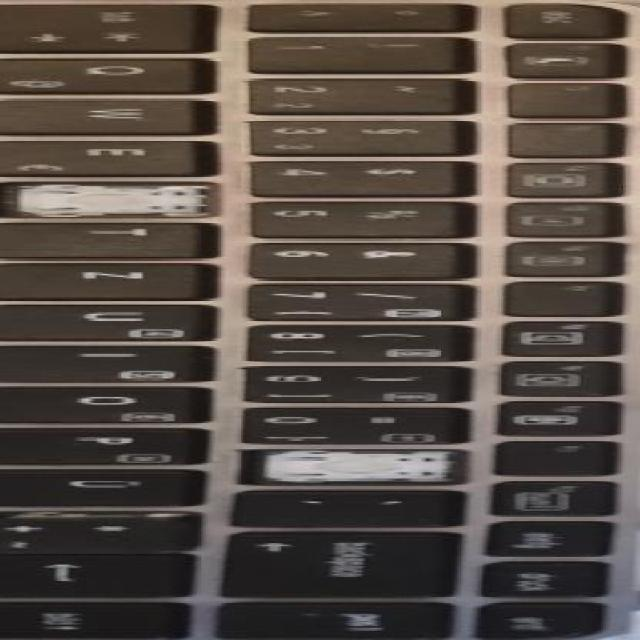Keyboard problems: (245, 451, 466, 483), (0, 185, 217, 217)
